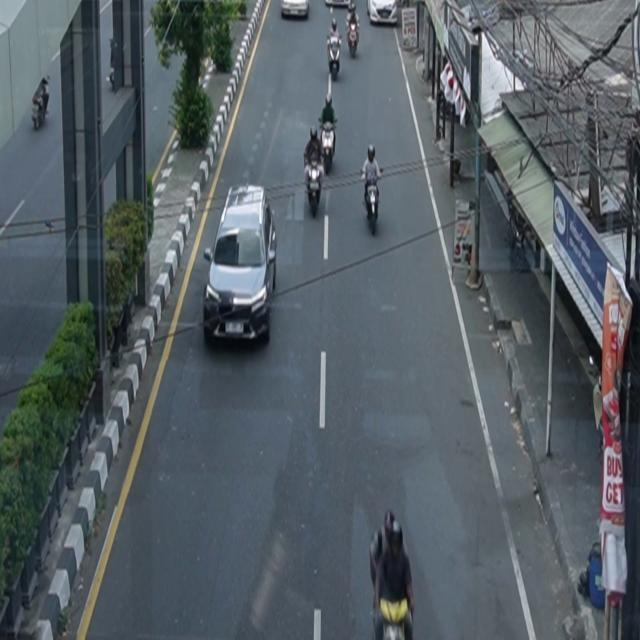car: (203, 184, 278, 345), (367, 1, 398, 26), (281, 1, 310, 19)
